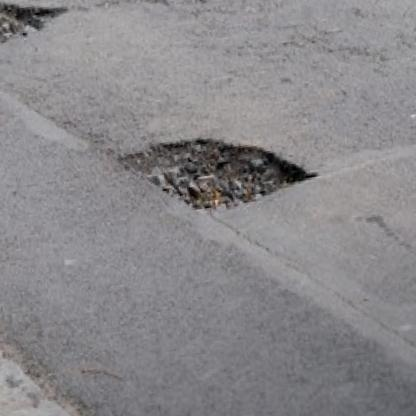pothole: (112, 120, 323, 220), (0, 0, 72, 70)
